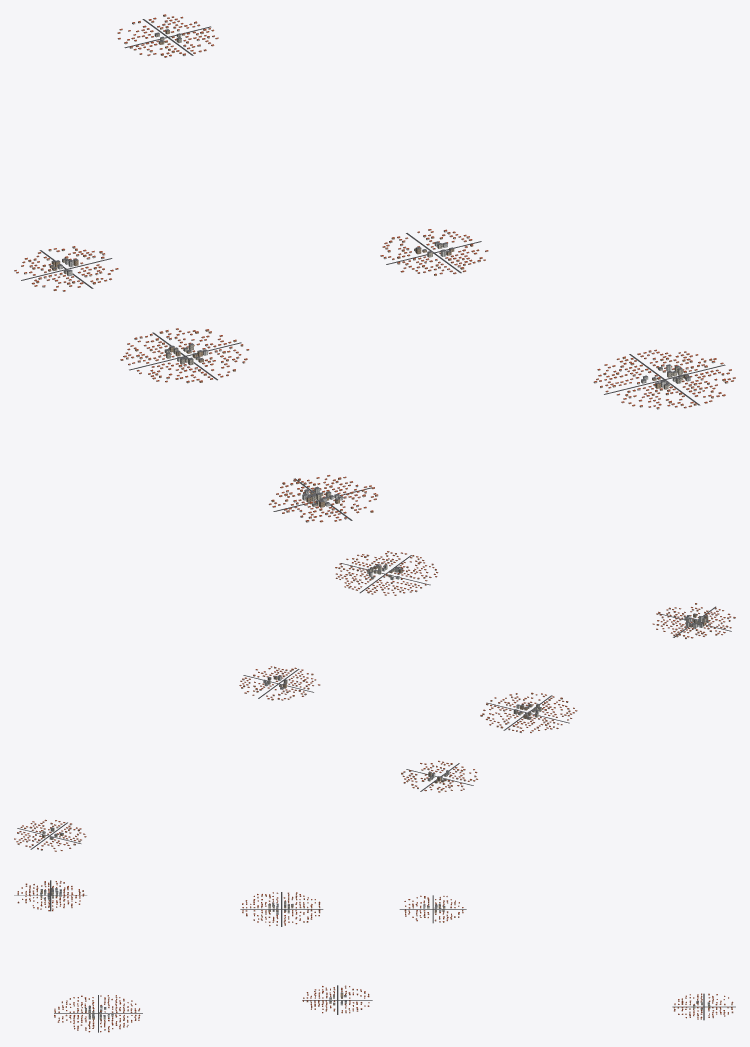
File: city.obj
3 renders of one model, top to bottom at view 1: azimuth 30°, elevation 25°; view 2: azimuth 150°, elevation 25°; view 3: azimuth 270°, elevation 25°, orthographic. The views are drawn at different scales.
Bounding box in the file's own units: 2260 × 24.5 × 4530.
